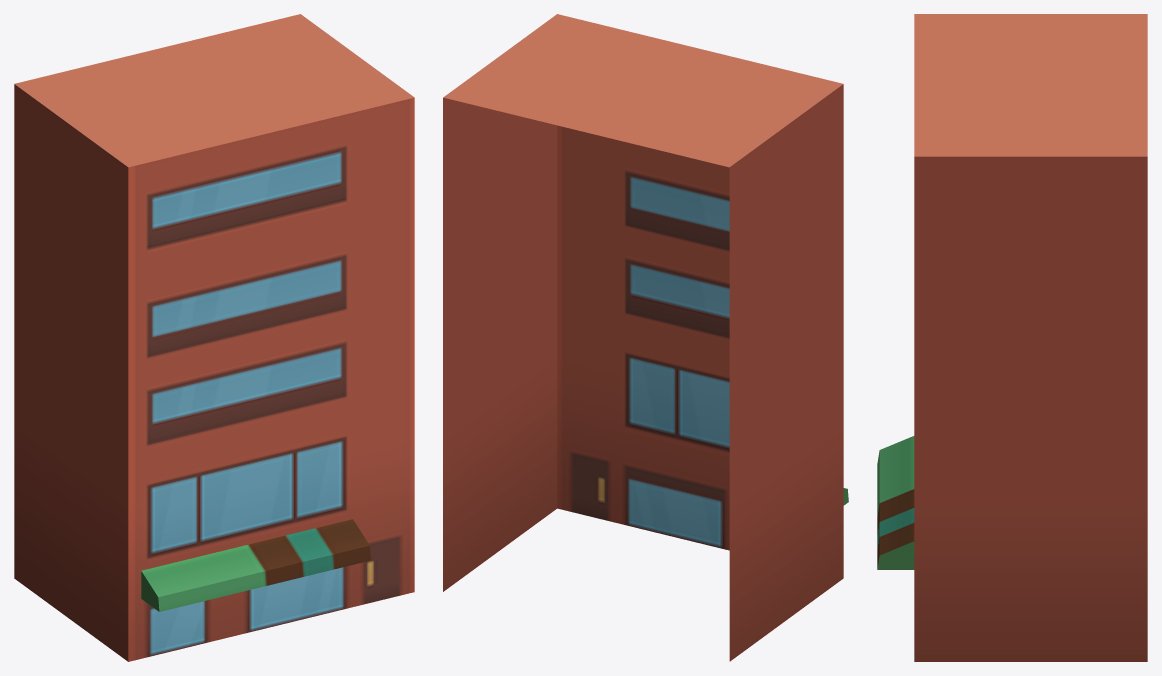
File: Common_Building_04.fbx
3 views of the same model, side by side, from view 1: azimuth 30°, elevation 25°; view 2: azimuth 150°, elevation 25°; view 3: azimuth 270°, elevation 25° (orthographic). The views are drawn at different scales.
Visible parts, largest first — view 1: Common_Building_04; view 2: Common_Building_04; view 3: Common_Building_04.
Part boxes in pixels (x1,y1,x2,y2): Common_Building_04: (14,14,414,661); Common_Building_04: (443,14,848,661); Common_Building_04: (877,14,1147,661).
Size of the model in its own units: 2000 by 3300 by 1600.
